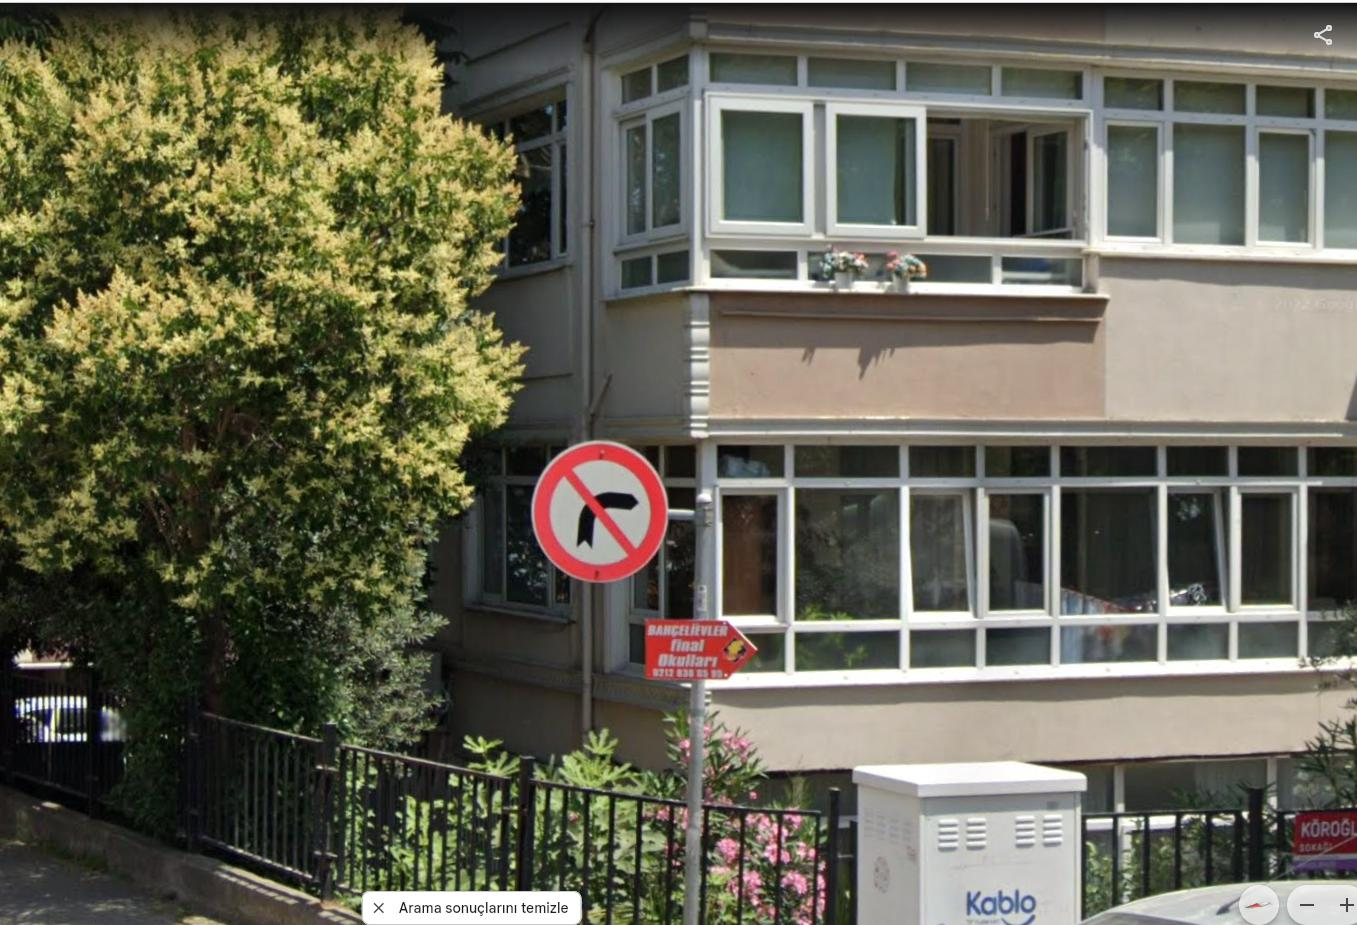rightturnsareforbidden: (530, 439, 670, 583)
